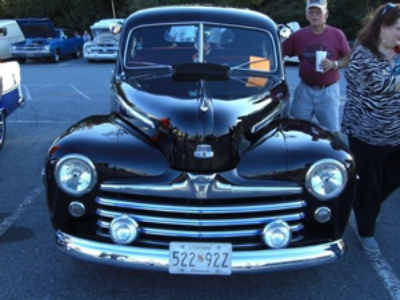licence: (168, 242, 231, 276)
